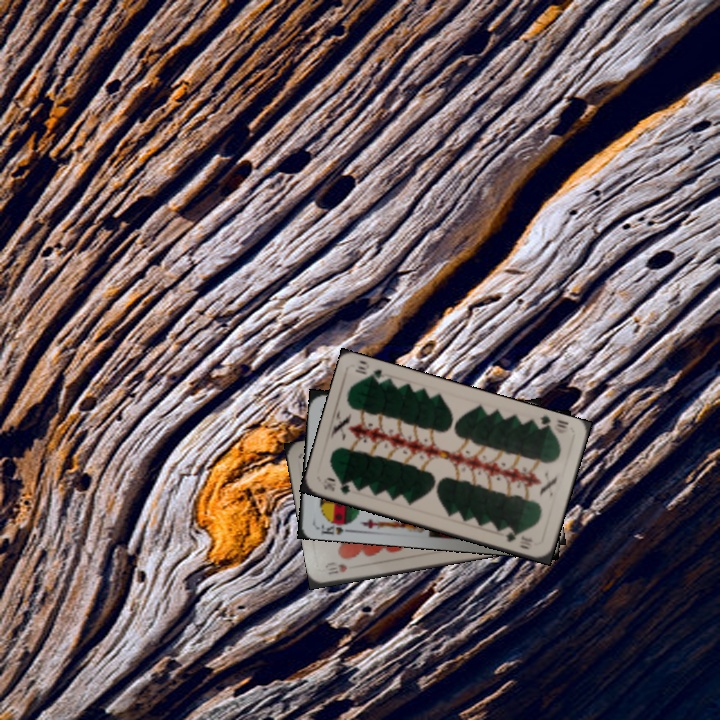G10: (532, 412, 571, 436), (318, 477, 353, 497)
H10: (324, 560, 350, 577)
SK: (317, 515, 355, 537)
